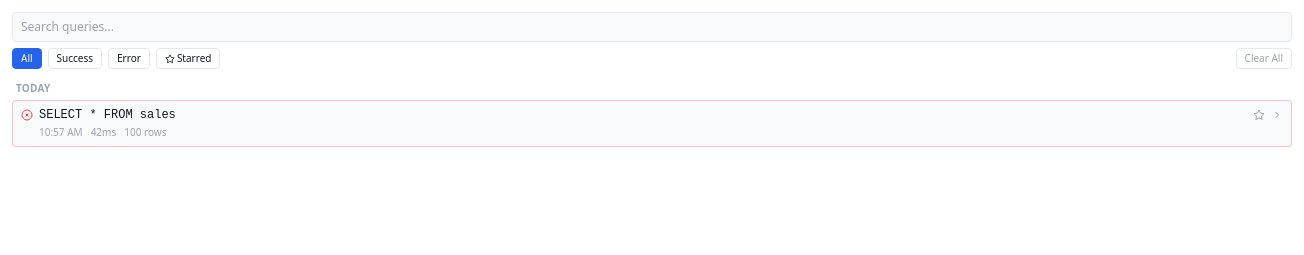
Test: QH-3: Clicking entry expands full SQL › shows error message in expanded view for failed queries
What coordinates should you click on to do the following:
click the button with test id "query-history-entry-toggle"
I would click on:
 (107, 115)
Its box is [13,101,1291,146].
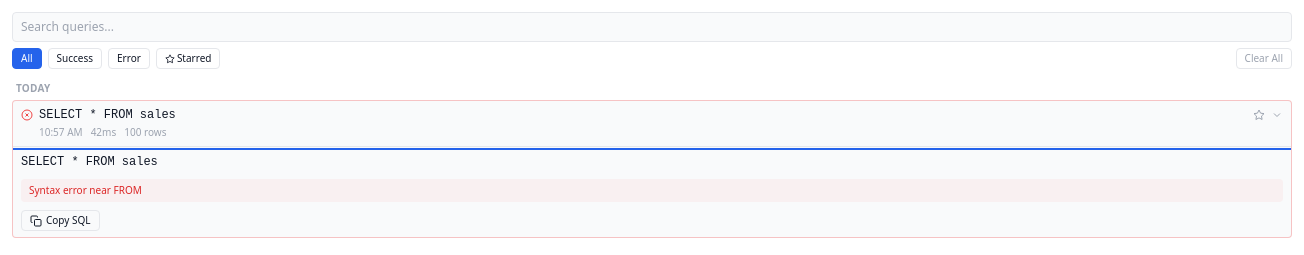
Expected: the text with test id "query-history-entry-error" reads "Syntax error near FROM", [29,183,142,197]
